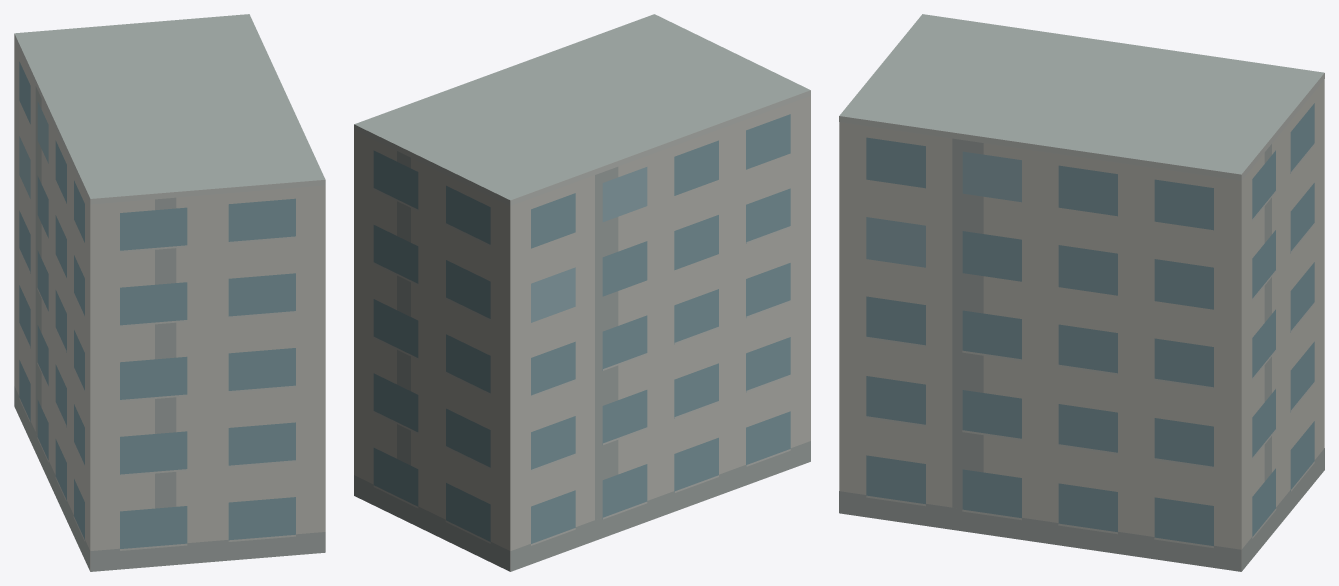
The model's file is survey-upis-32890082.glb.
3 views of the same model, side by side, from view 1: azimuth 30°, elevation 25°; view 2: azimuth 150°, elevation 25°; view 3: azimuth 270°, elevation 25° (orthographic). The views are drawn at different scales.
Parts seen in each view (by area): view 1: survey-upis-32890082.tmp; view 2: survey-upis-32890082.tmp; view 3: survey-upis-32890082.tmp.
Part boxes in pixels (x1,y1,x2,y2): survey-upis-32890082.tmp: (14, 14, 325, 571); survey-upis-32890082.tmp: (354, 14, 810, 571); survey-upis-32890082.tmp: (839, 14, 1324, 571).
Bounding box in the file's own units: 13.79 × 15.9 × 17.62.
